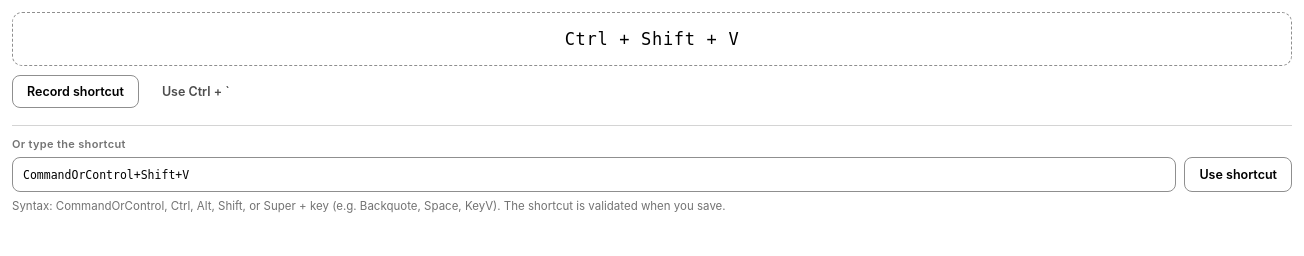
Test: HotkeyRecorder › validates manual shortcuts
Later steps or results of the test are not shown.
Step 1. Clear the field labelled "Or type the shortcut" → (594, 174), box x1=12 y1=157 x2=1176 y2=192
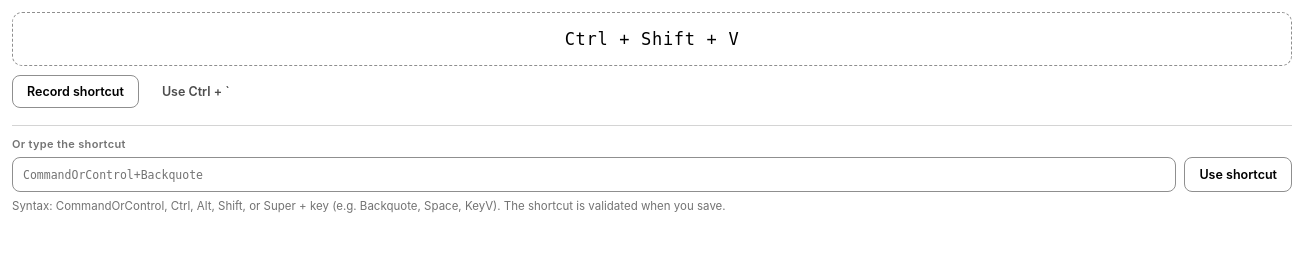
Step 2. Click the button "Use shortcut" → click(1238, 174), box x1=1184 y1=157 x2=1292 y2=192
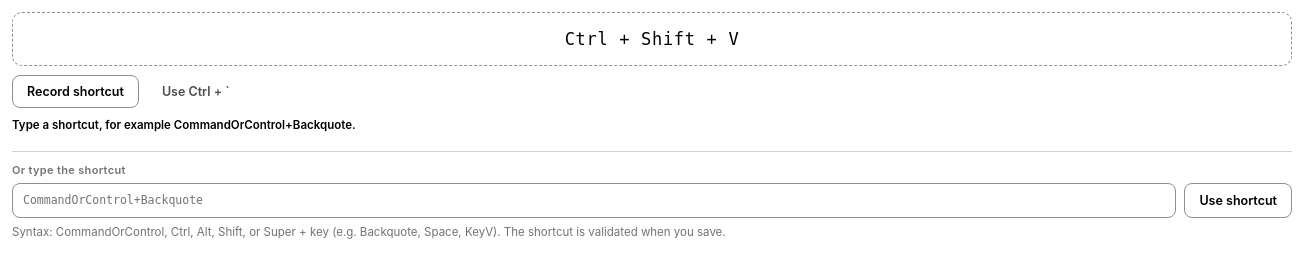
Now the text "Type a shortcut, for example CommandOrControl+Backquote." is shown, box x1=12 y1=118 x2=356 y2=132
Step 3. Type "V" into the field labelled "Or type the shortcut" → (594, 200), box x1=12 y1=183 x2=1176 y2=218
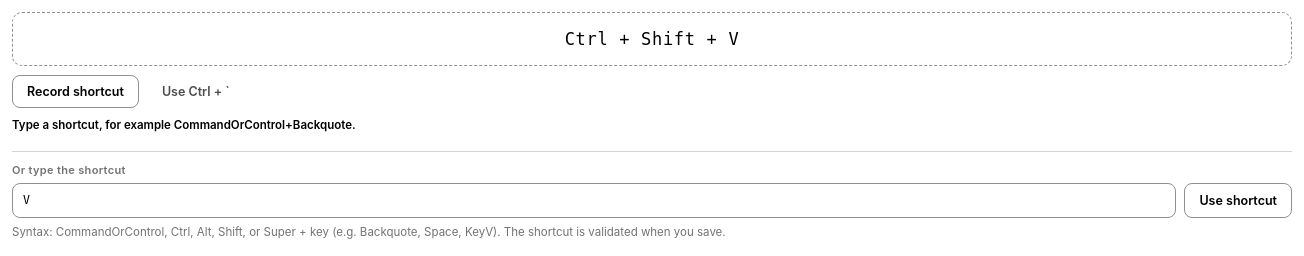
Step 4. Click the button "Use shortcut" → click(1238, 200), box x1=1184 y1=183 x2=1292 y2=218
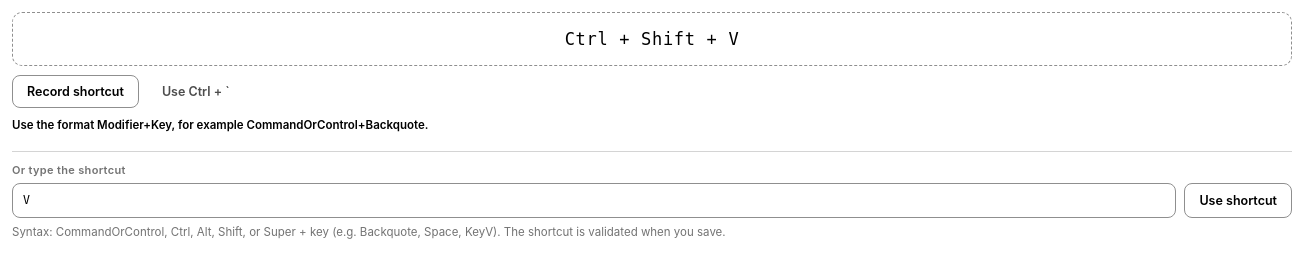
Now the text "Use the format Modifier+Key" is shown, box x1=12 y1=118 x2=428 y2=132
Step 5. Replace the text in the field labelled "Or type the shortcut" with "KeyV+KeyK" → (594, 200), box x1=12 y1=183 x2=1176 y2=218
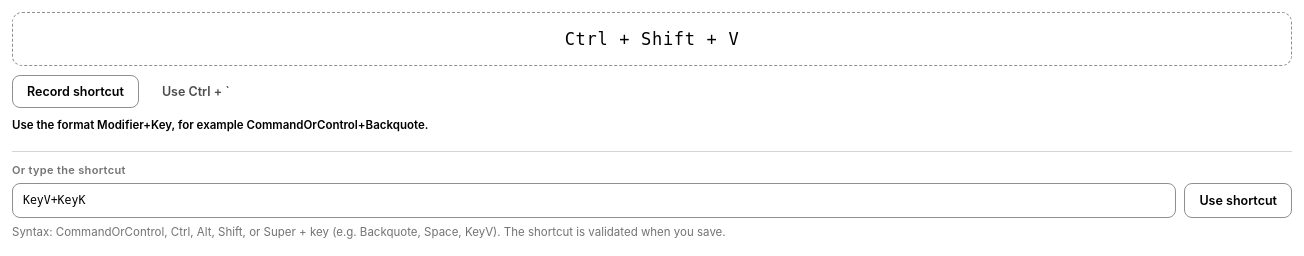
Step 6. Click the button "Use shortcut" → click(1238, 200), box x1=1184 y1=183 x2=1292 y2=218
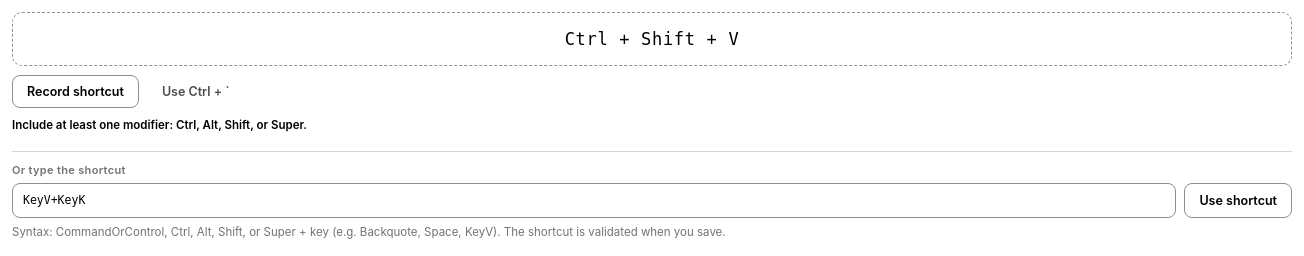
Now the text "Include at least one modifier: Ctrl, Alt, Shift, or Super." is shown, box x1=12 y1=118 x2=307 y2=132
